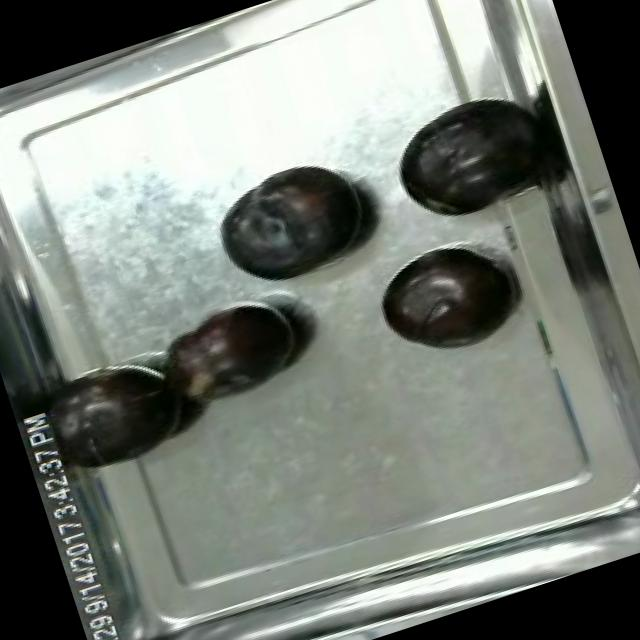Fruit: (201, 146, 387, 304), (378, 78, 558, 232), (150, 282, 316, 418), (364, 232, 524, 372)
